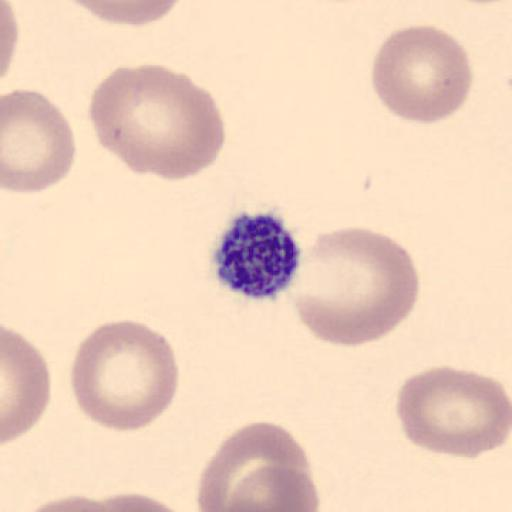Platelet: (208, 208, 304, 303)
RBC: (288, 224, 420, 348), (94, 62, 226, 183), (69, 317, 180, 433), (395, 364, 511, 460), (196, 419, 314, 512), (370, 24, 474, 126), (1, 88, 77, 196), (2, 324, 52, 445), (224, 464, 321, 512), (56, 0, 187, 28), (83, 491, 193, 512), (9, 492, 119, 512), (0, 0, 20, 79), (446, 0, 512, 5)
